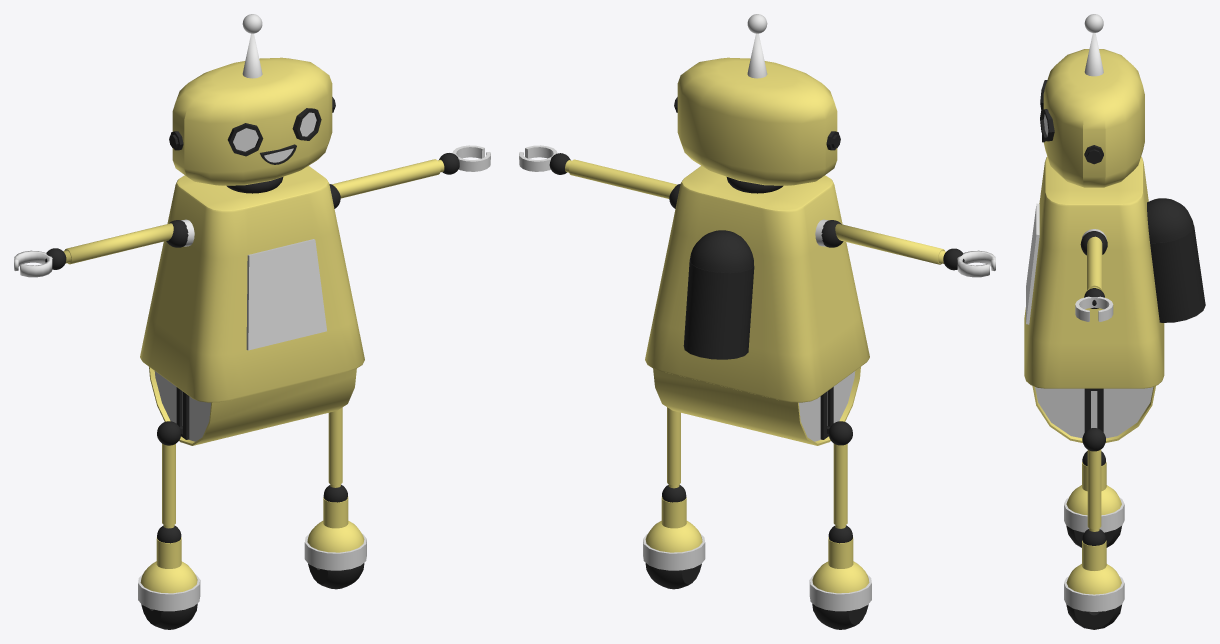
Rendered from robot_FBX_YELLOW.fbx.
3 renders of one model, left to right at view 1: azimuth 30°, elevation 25°; view 2: azimuth 150°, elevation 25°; view 3: azimuth 270°, elevation 25°, orthographic. The views are drawn at different scales.
Visible parts, largest first — view 1: R2_Body, R2_Legs_BOTTOM, R2_Legs_TOP, R2_Arm_TOP.R, R2_Arm_TOP.L, R2_Arm_BOTTOM.R, R2_Arm_BOTTOM.L; view 2: R2_Body, R2_Legs_BOTTOM, R2_Legs_TOP, R2_Arm_TOP.R, R2_Arm_TOP.L, R2_Arm_BOTTOM.R, R2_Arm_BOTTOM.L; view 3: R2_Body, R2_Legs_BOTTOM, R2_Legs_TOP, R2_Arm_TOP.L, R2_Arm_BOTTOM.L.
Boxes of the visible parts, x1,y1,x2,y2 form: R2_Body: (140, 14, 364, 445); R2_Legs_BOTTOM: (138, 484, 366, 629); R2_Legs_TOP: (157, 407, 342, 525); R2_Arm_TOP.R: (64, 220, 188, 264); R2_Arm_TOP.L: (329, 159, 440, 208); R2_Arm_BOTTOM.R: (14, 248, 71, 277); R2_Arm_BOTTOM.L: (437, 145, 490, 174); R2_Body: (645, 14, 869, 445); R2_Legs_BOTTOM: (643, 484, 871, 629); R2_Legs_TOP: (667, 407, 852, 525); R2_Arm_TOP.R: (821, 220, 944, 264); R2_Arm_TOP.L: (569, 159, 680, 208); R2_Arm_BOTTOM.R: (938, 248, 995, 277); R2_Arm_BOTTOM.L: (519, 145, 571, 174); R2_Body: (1024, 14, 1205, 442); R2_Legs_BOTTOM: (1064, 451, 1124, 629); R2_Legs_TOP: (1082, 428, 1105, 528); R2_Arm_TOP.L: (1080, 231, 1107, 290); R2_Arm_BOTTOM.L: (1075, 287, 1113, 321).
Size of the model in its own units: 165 by 199 by 57.1.
